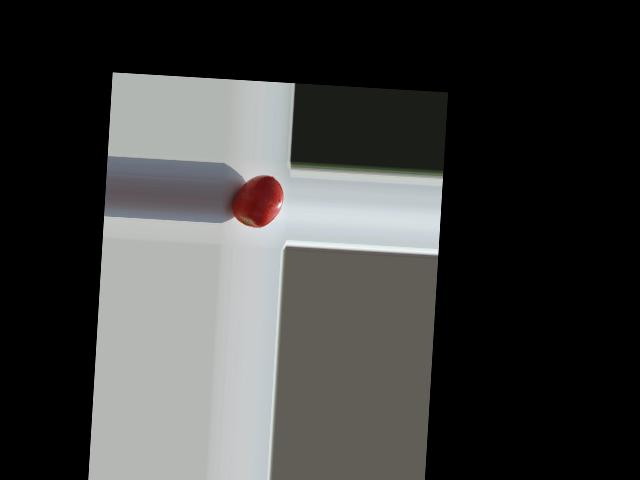tomato: (231, 173, 284, 229)
